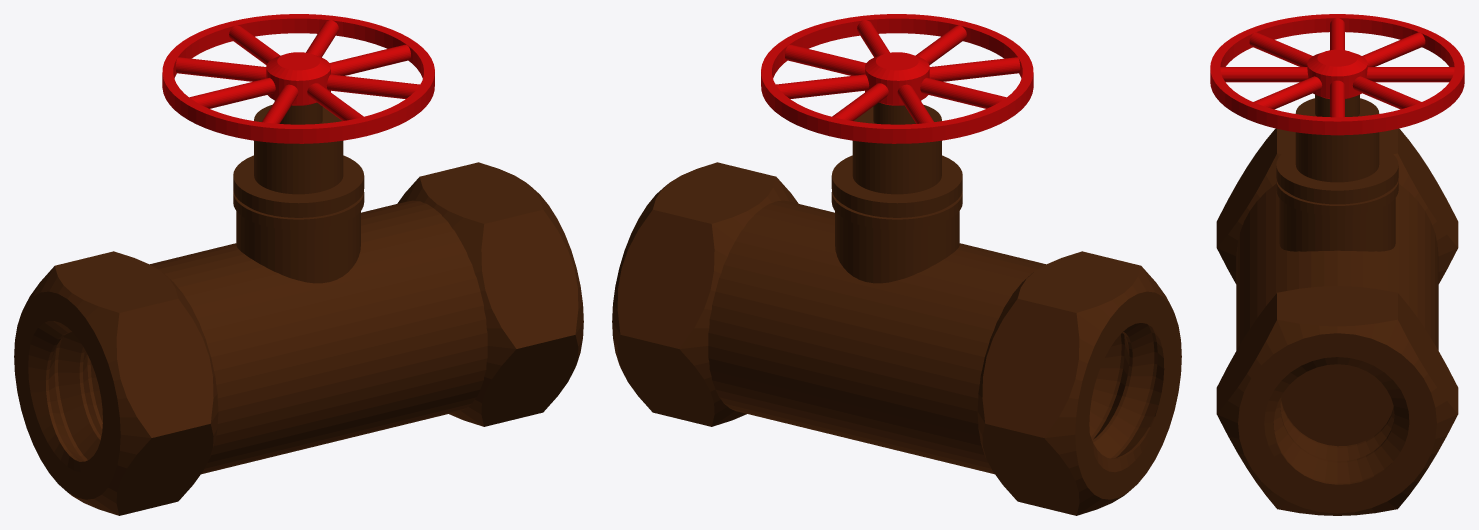
The model's file is treehigh.obj.
The picture shows the model from 3 angles, left to right: view 1: azimuth 30°, elevation 25°; view 2: azimuth 150°, elevation 25°; view 3: azimuth 270°, elevation 25°; orthographic projection. The views are drawn at different scales.
Visible parts, largest first — view 1: Nut.003, Handle; view 2: Nut.003, Handle; view 3: Nut.003, Handle.
Boxes of the visible parts, box(x1,y1,x2,y2) form: Nut.003: box(14, 100, 583, 515); Handle: box(162, 14, 434, 143); Nut.003: box(612, 100, 1181, 515); Handle: box(761, 14, 1033, 143); Nut.003: box(1216, 94, 1458, 515); Handle: box(1210, 14, 1464, 135).
Bounding box in the file's own units: 4.94 × 3.87 × 2.52.
